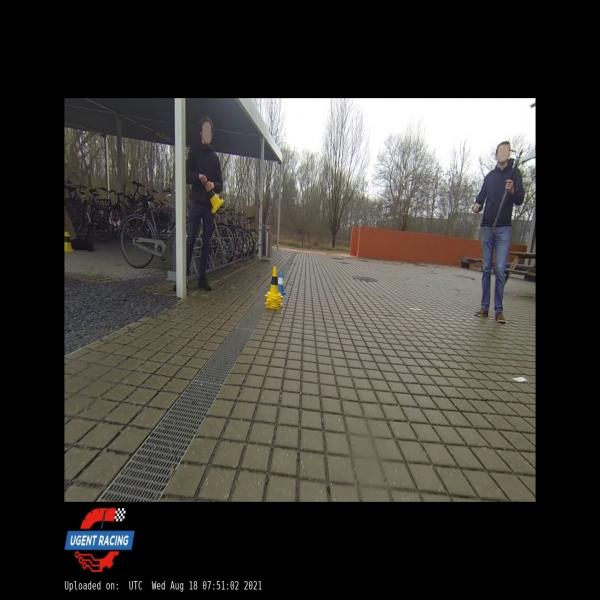blue_cone: (276, 270, 286, 295)
yellow_cone: (203, 180, 225, 213), (264, 265, 284, 299), (64, 231, 72, 252)
